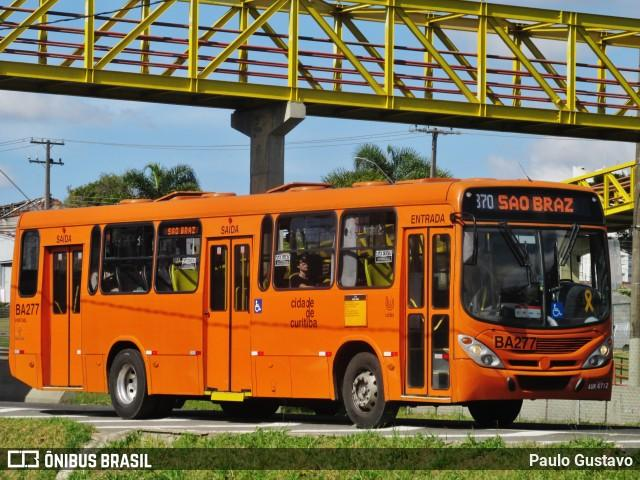SAO BRAZ: (495, 191, 576, 216)
